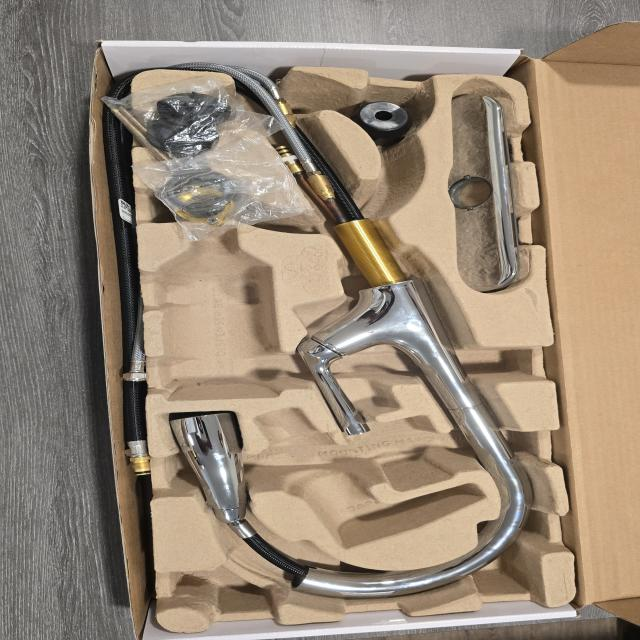1: (172, 69, 535, 599)
2m: (256, 408, 484, 549)
3m: (159, 227, 278, 400)
4: (446, 95, 516, 291)
5: (354, 100, 410, 147)
6: (129, 128, 319, 242)
7o: (102, 74, 293, 184)
